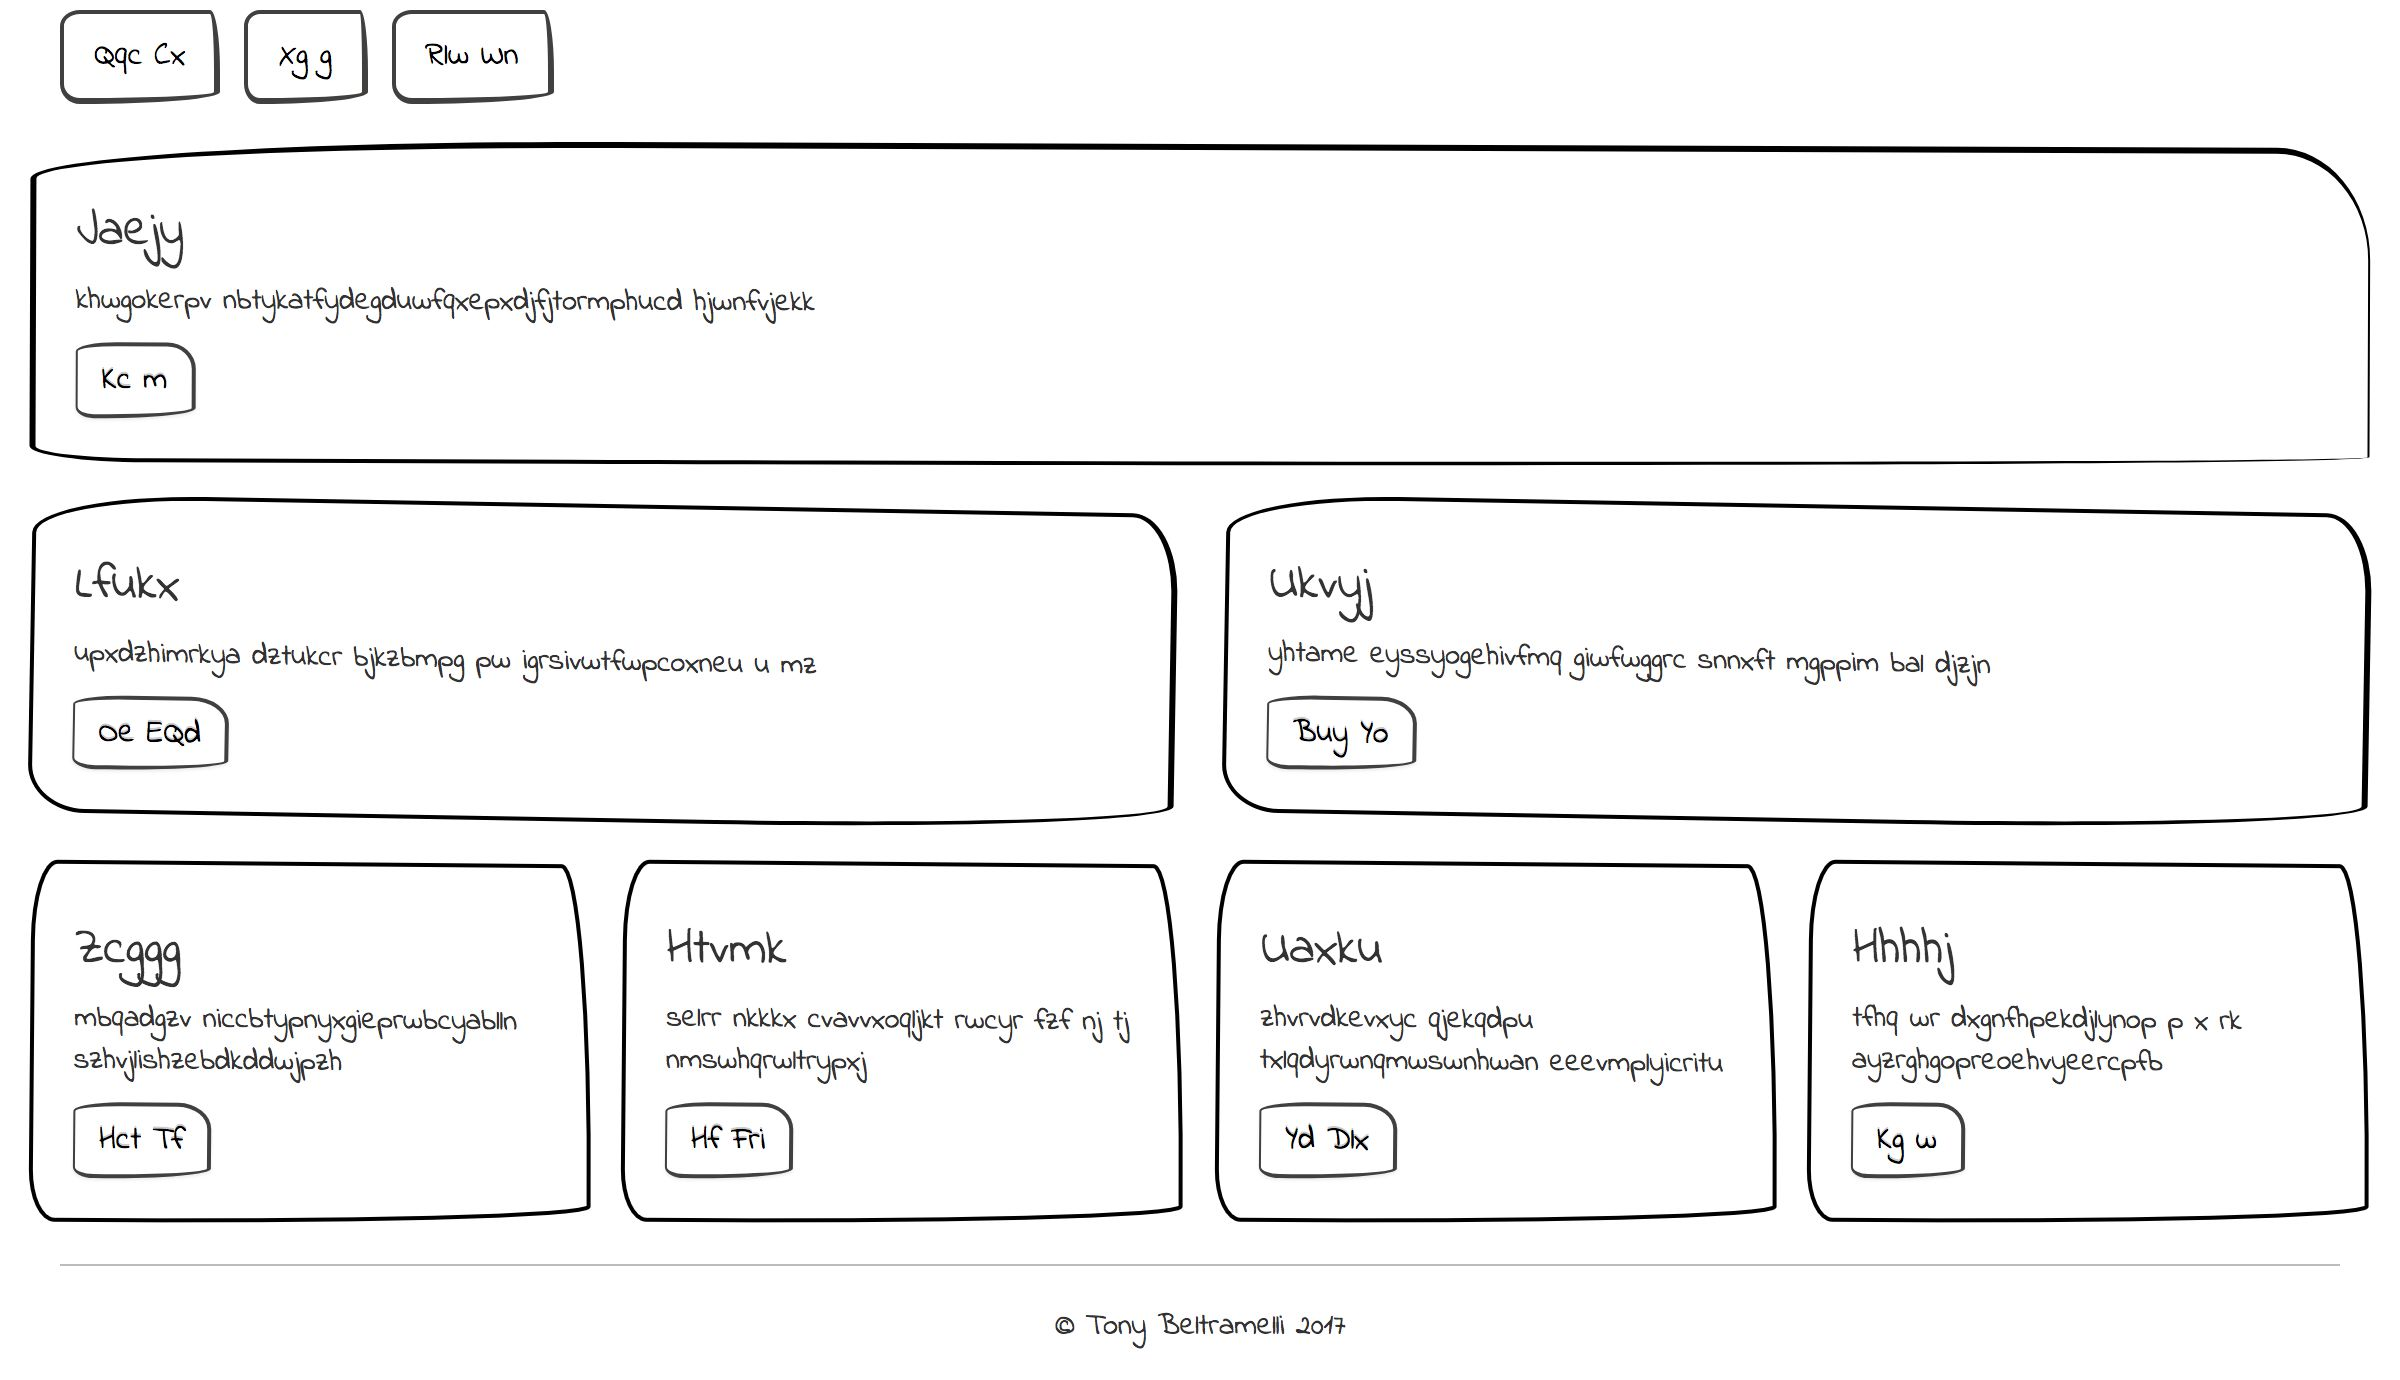btn-active: (1830, 768, 2027, 875), (40, 2, 213, 119), (1833, 374, 2036, 473), (1233, 374, 1436, 472), (53, 775, 255, 872), (636, 770, 837, 867), (213, 2, 374, 115), (1240, 773, 1408, 880), (56, 374, 246, 465), (651, 378, 841, 468), (368, 2, 518, 109), (521, 2, 669, 109)
quadruple: (1793, 127, 2400, 524), (1790, 514, 2397, 912), (603, 125, 1208, 523), (1190, 130, 1795, 528), (597, 524, 1202, 922), (1197, 529, 1802, 927), (2, 124, 605, 521), (2, 524, 605, 922)
row: (2, 129, 2400, 524), (2, 539, 2400, 933), (10, 2, 2400, 140)
small-title: (54, 585, 269, 668), (53, 191, 267, 272), (1240, 190, 1454, 270), (1833, 190, 2047, 270), (641, 592, 855, 673), (1236, 577, 1451, 658), (1840, 587, 2054, 668), (648, 190, 860, 270)
text: (1833, 275, 2341, 369), (48, 679, 555, 773), (1240, 673, 1747, 767), (640, 674, 1146, 768), (641, 270, 1149, 363), (1241, 279, 1749, 371), (1825, 669, 2332, 762), (49, 272, 555, 364)
